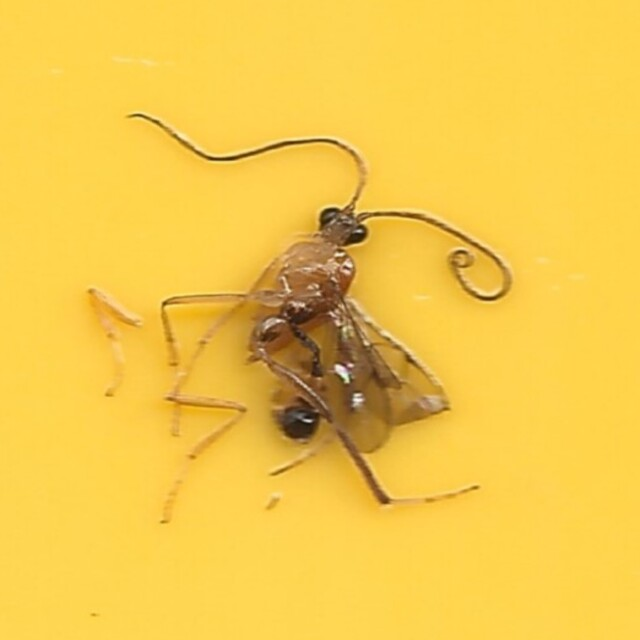Hymenoptera: (123, 104, 517, 536)
